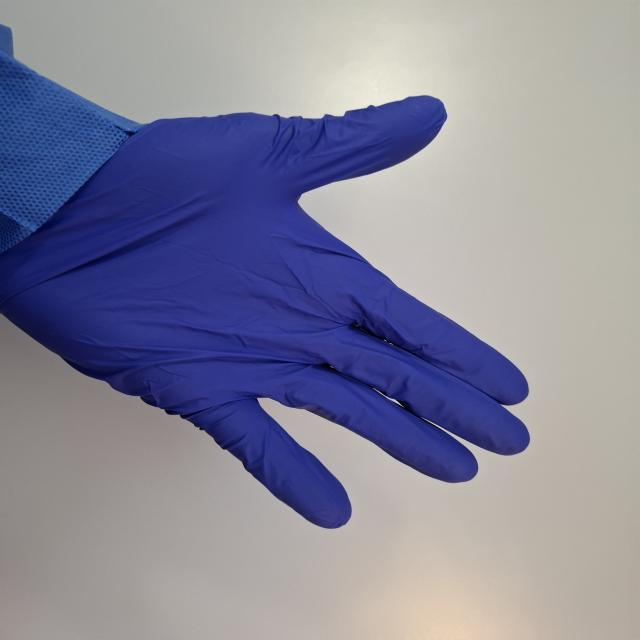glove_on: (0, 92, 534, 531)
